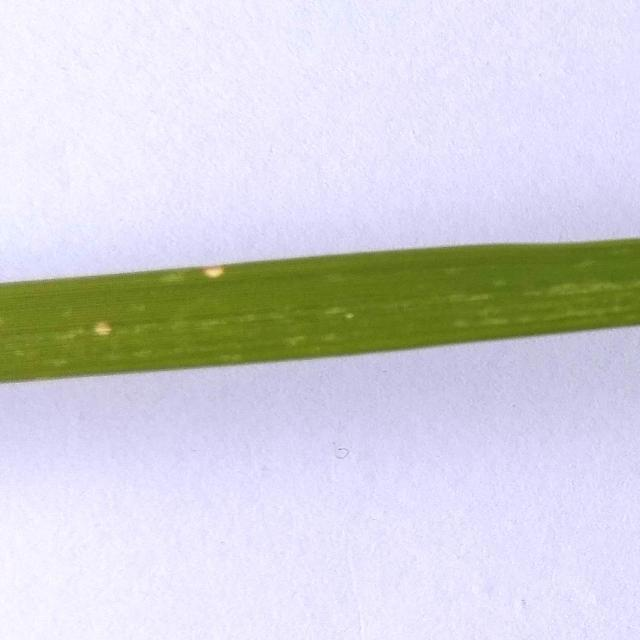Blast: (86, 312, 120, 341), (202, 268, 236, 280)
